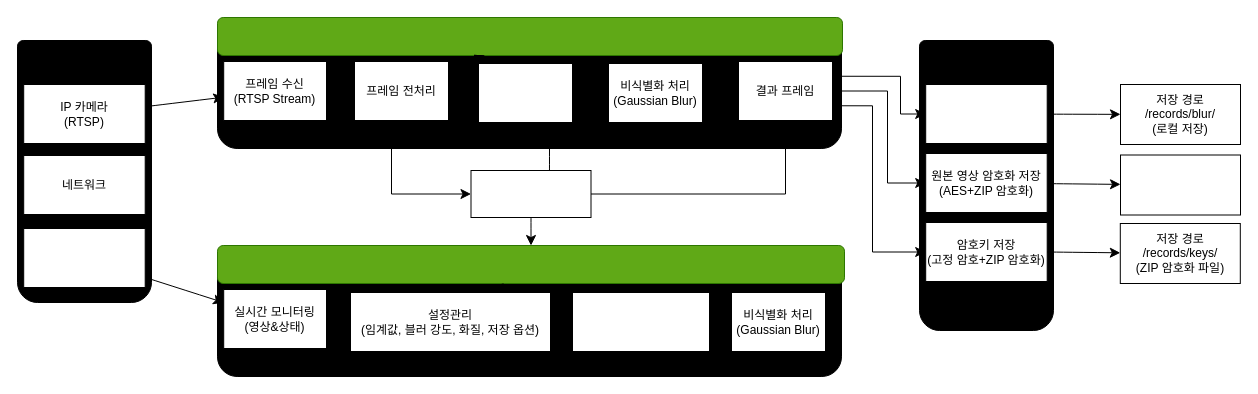
Some shapes in this 1258 by 394 pixel diagram are drawn without their labels. Each missing label, with the centre of its shape:
"Fail-Safe 모드 (탐지 실패 시) 전체 프레임 블러 처리" belongs at point (530, 194).
"객체 탐지 (YOLOv8)" belongs at point (525, 92).
"비식별화 영상 저장" belongs at point (986, 114).
"상태 표시 (FPS, 탐지 수, 녹화 상태)" belongs at point (641, 322).
"실시간 처리(Real-time Processing)" belongs at point (529, 36).
"저장 경로 /records/original_enc/ (ZIP 암호화 파일)" belongs at point (1180, 184).
"제어 및 모니터링(Control&Monitoring)" belongs at point (530, 264).
"클라이언트 (Python Application)" belongs at point (84, 258).
